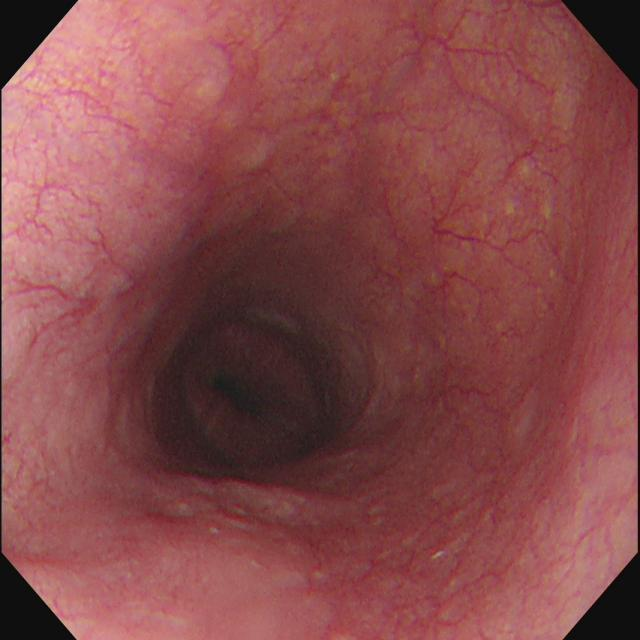I: (154, 293, 363, 487)
